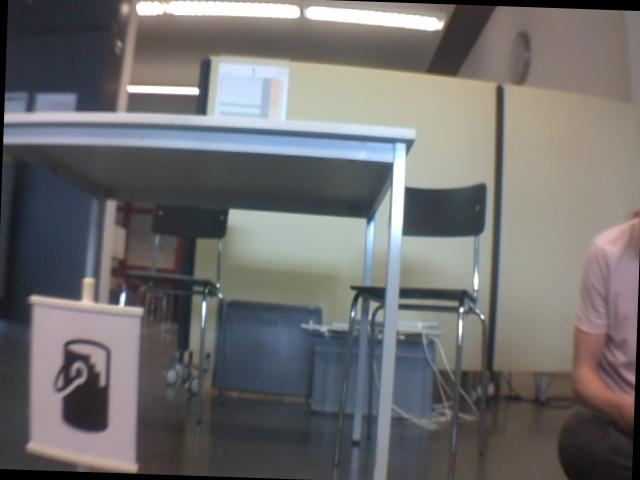bucket: (46, 331, 113, 436)
